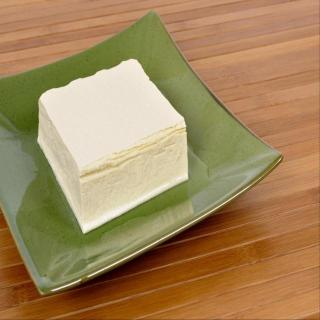Tahu: (18, 51, 203, 227)
